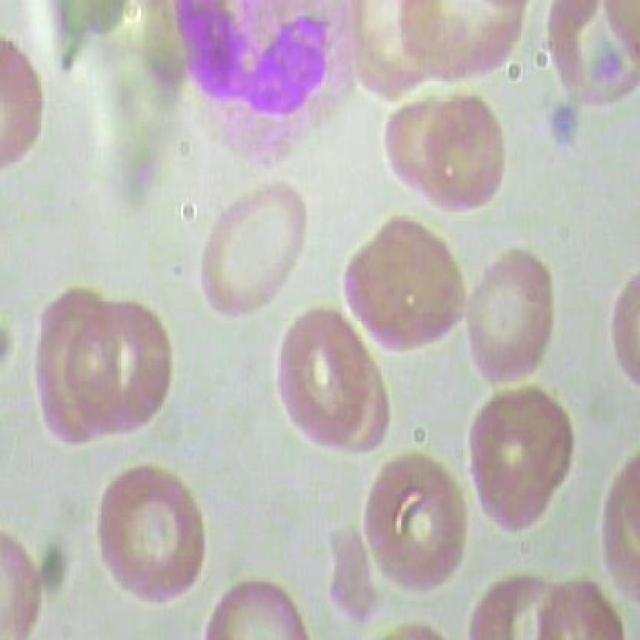RBC: (76, 452, 215, 613), (462, 232, 590, 405), (460, 374, 582, 543), (271, 297, 398, 458), (345, 440, 469, 603), (339, 214, 479, 357), (190, 170, 315, 325), (380, 81, 514, 214), (24, 283, 119, 463), (68, 294, 178, 434), (192, 571, 328, 638)
WBC: (141, 2, 387, 170)
